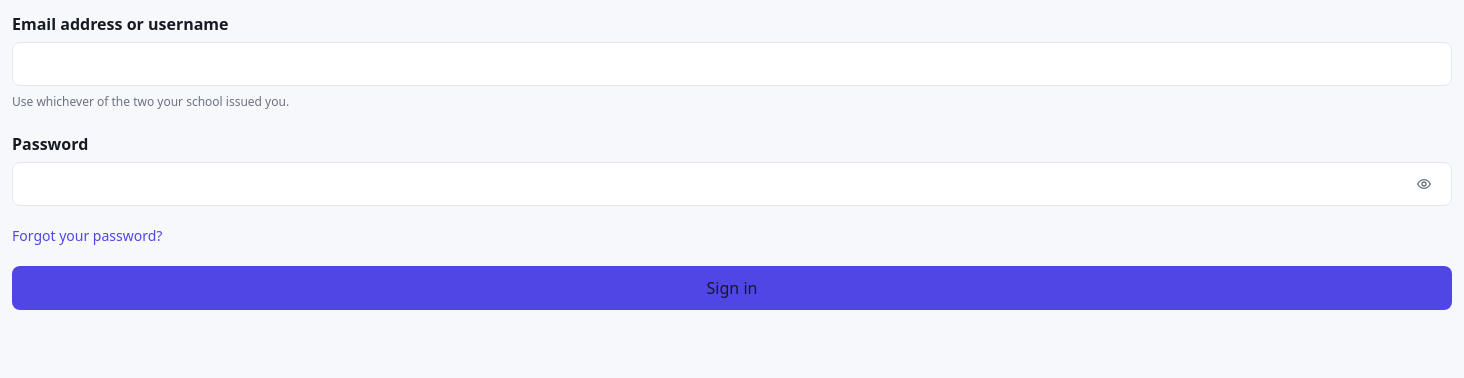
Test: client-side validation › refuses an empty submit without asking the server
Click the button with test id "sign-in-submit": point(732, 288) [12,266,1452,310]
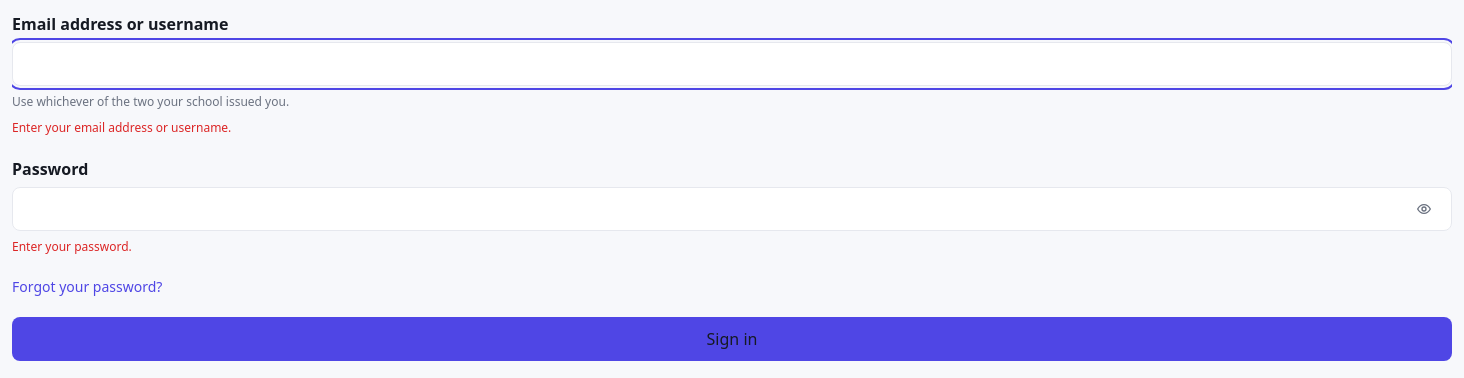
expect the text "Enter your email address or username." is shown: met, box [12,118,231,136]
expect the text "Enter your password." is shown: met, box [12,238,132,255]
